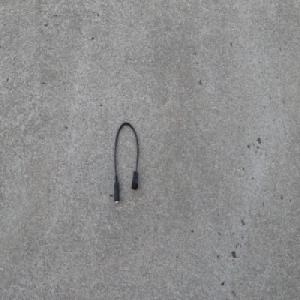Wire: (112, 117, 139, 204)
